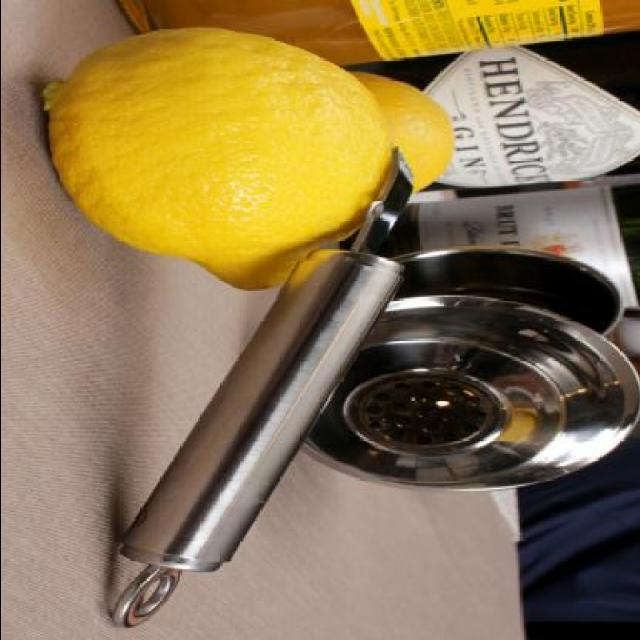Lemon: (44, 28, 393, 288), (366, 72, 458, 184)
